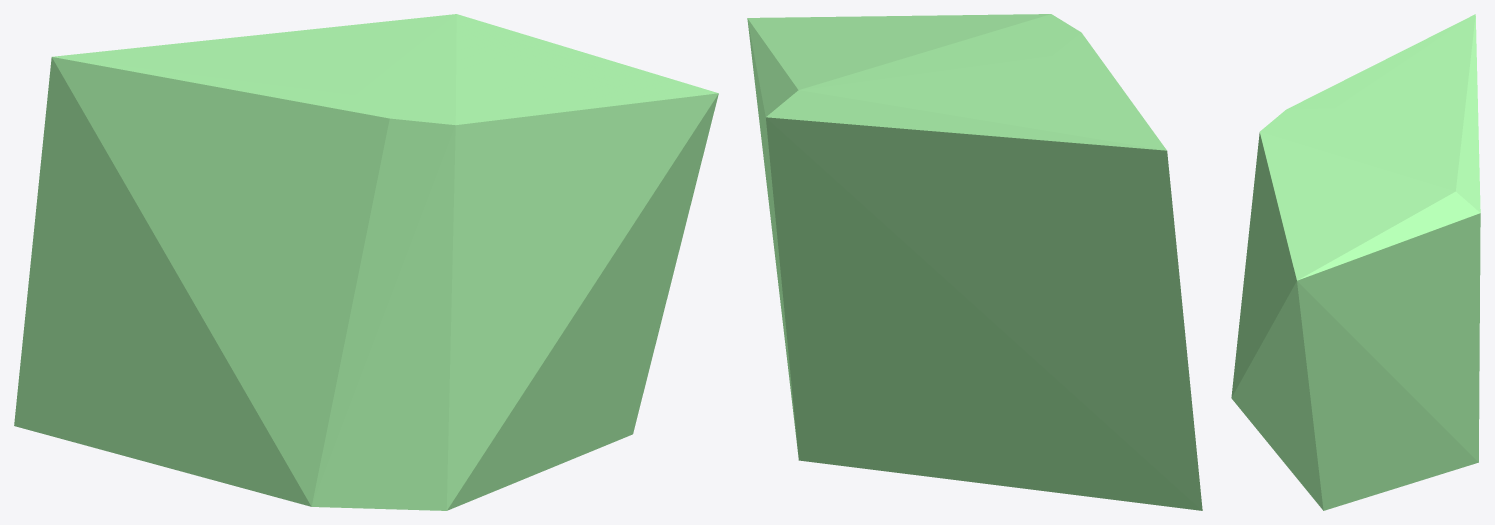
Rendered from UMIRobot_UMIRobot_link_4_convex_coll_21.dae.
3 renders of one model, left to right at view 1: azimuth 30°, elevation 25°; view 2: azimuth 150°, elevation 25°; view 3: azimuth 270°, elevation 25°, orthographic. The views are drawn at different scales.
Visible parts, largest first — view 1: node; view 2: node; view 3: node.
Part boxes in pixels (x1=…): node: x1=14, y1=14, x2=718, y2=510; node: x1=747, y1=14, x2=1202, y2=510; node: x1=1231, y1=14, x2=1480, y2=510.
Bounding box in the file's own units: 0.0417 × 0.0286 × 0.0203.
